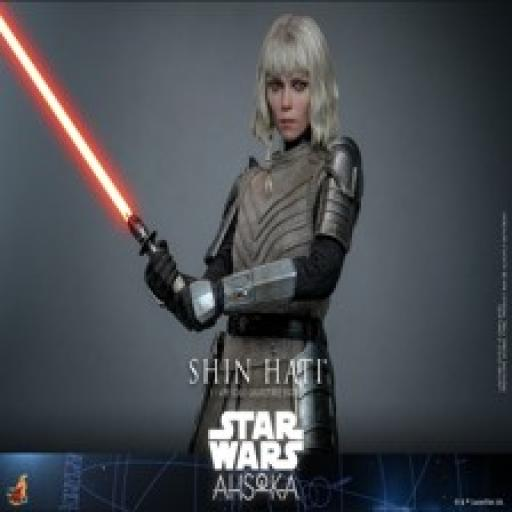human: (141, 17, 363, 453)
sith saber: (0, 10, 219, 322)
